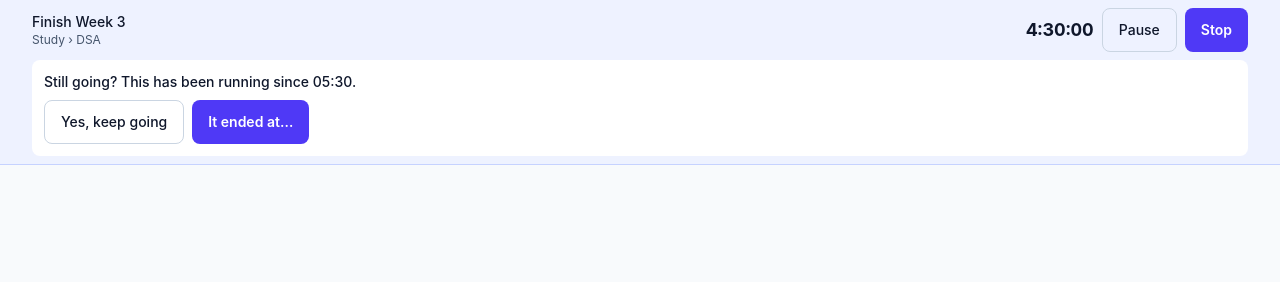
Test: running bar › "It ended at…" from the prompt opens the stop box
Click the button "It ended at…" at (251, 122), box [192, 100, 309, 144]
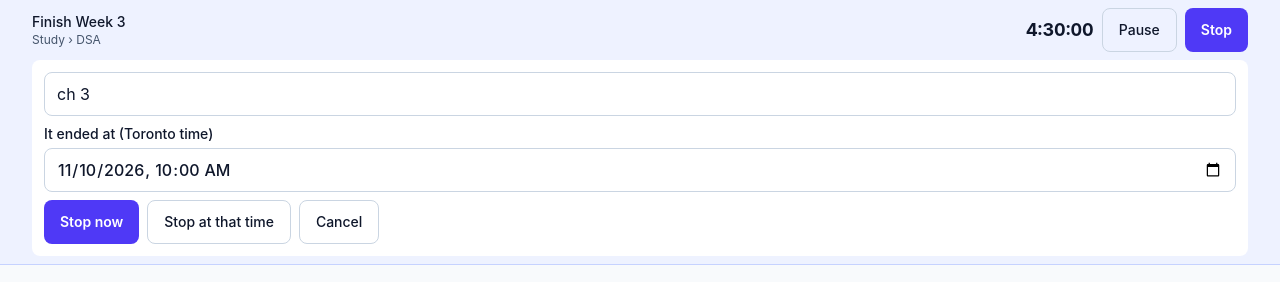
Expected: the element named "Stop the timer" is shown
